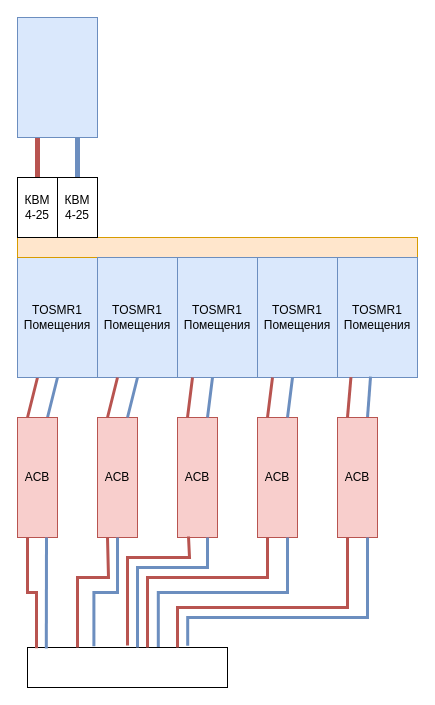
Image size: 435x705. Some labels were removed from this diagram. Each missing label, with the centre of its shape:
2P Bus: the point at 217,247
TOSMR1 Группы: the point at 57,77
Кроссовые клеммы: the point at 127,667
